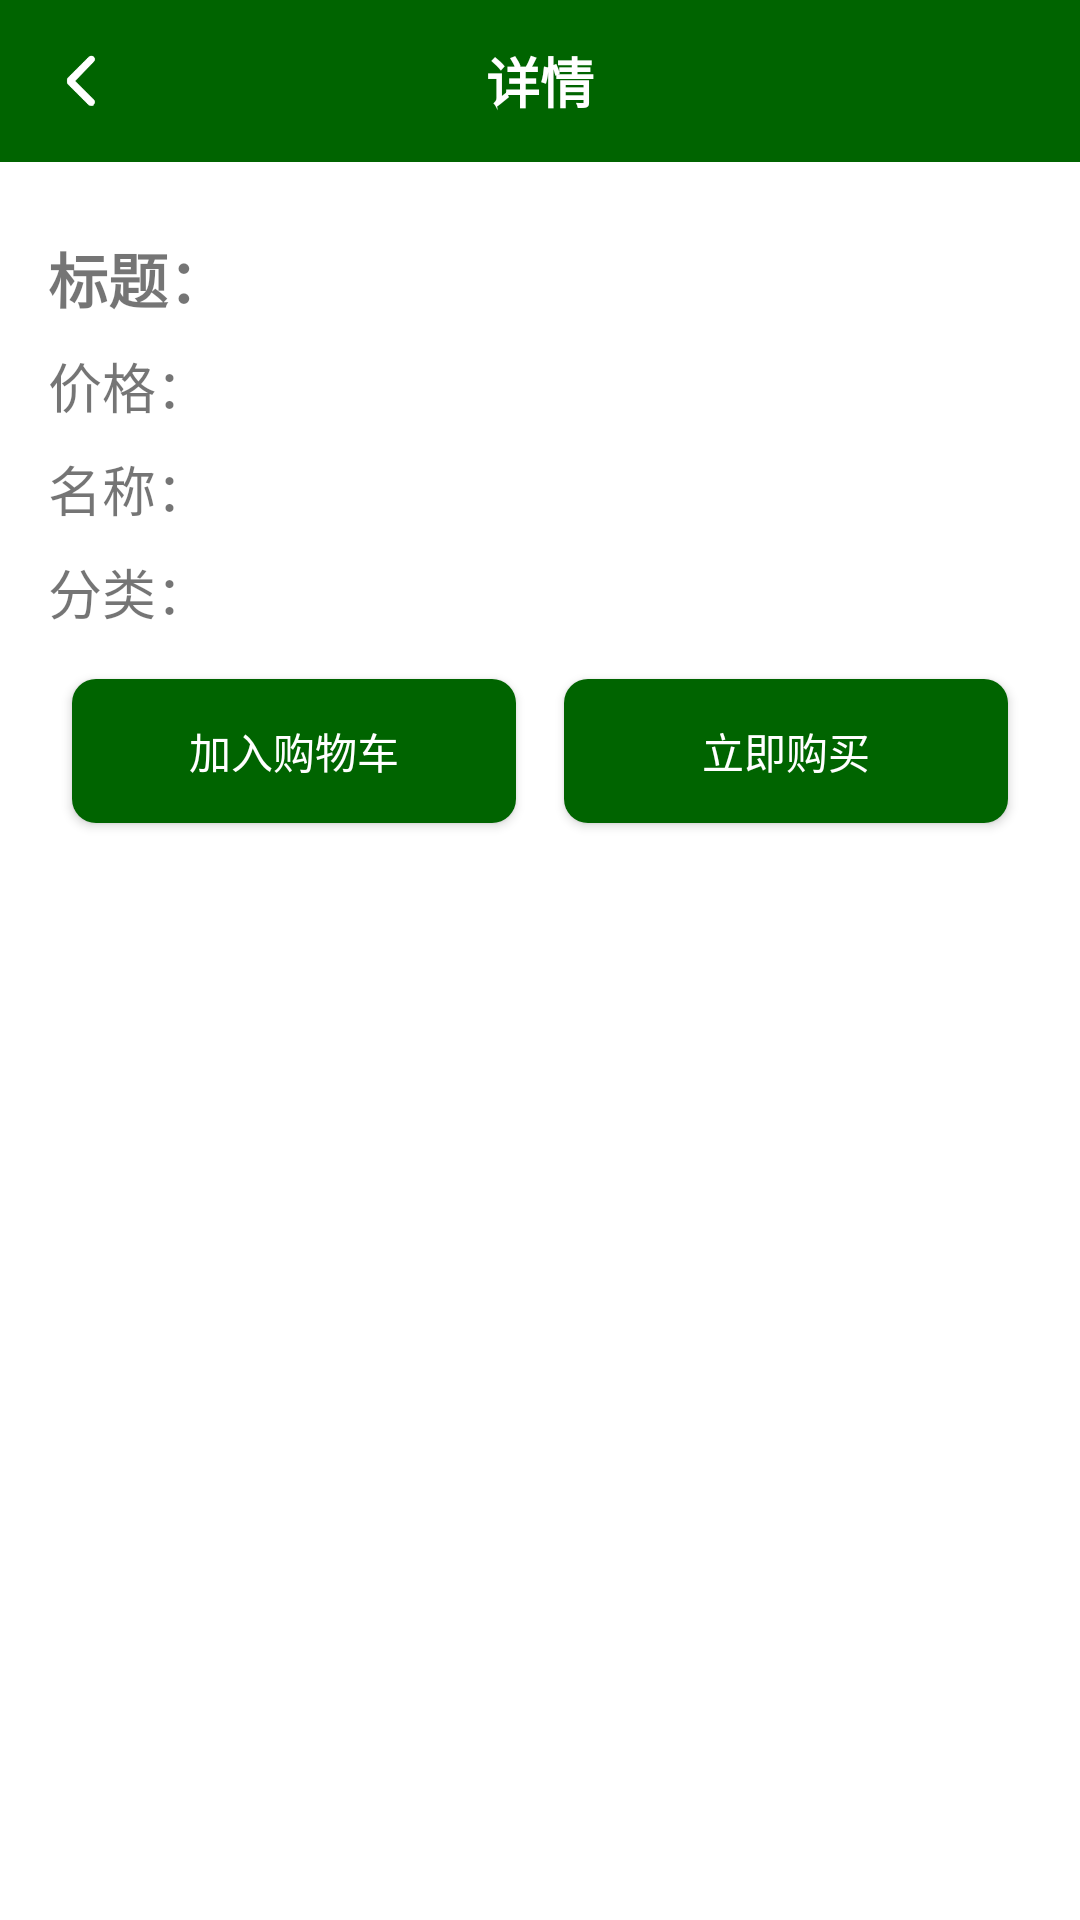

Icons on this 1080 × 1920 Android screen, each with the point to tap as (x,y):
back: (81,80)
